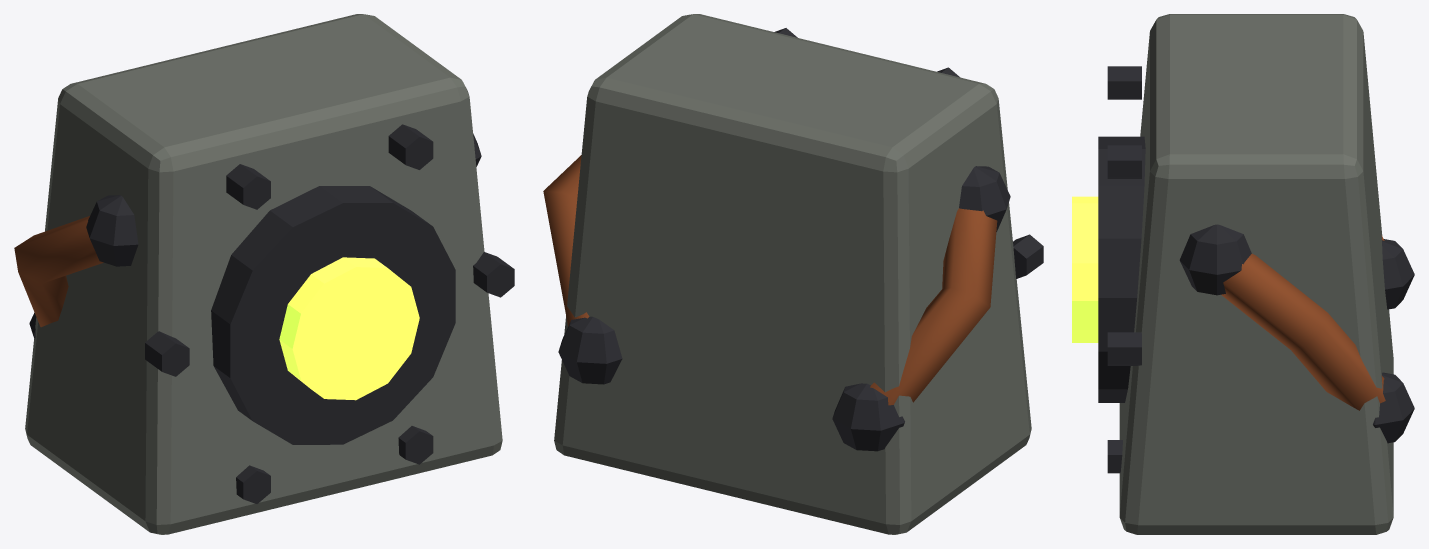
Rendered from co_solvent.glb.
3 renders of one model, left to right at view 1: azimuth 30°, elevation 25°; view 2: azimuth 150°, elevation 25°; view 3: azimuth 270°, elevation 25°, orthographic.
Visible parts, largest first — view 1: co_solvent; view 2: co_solvent; view 3: co_solvent.
Boxes of the visible parts, x1,y1,x2,y2 form: co_solvent: (14, 14, 514, 534); co_solvent: (543, 14, 1043, 534); co_solvent: (1072, 14, 1414, 534).
Size of the model in its own units: 0.167 by 0.1349 by 0.1118.
